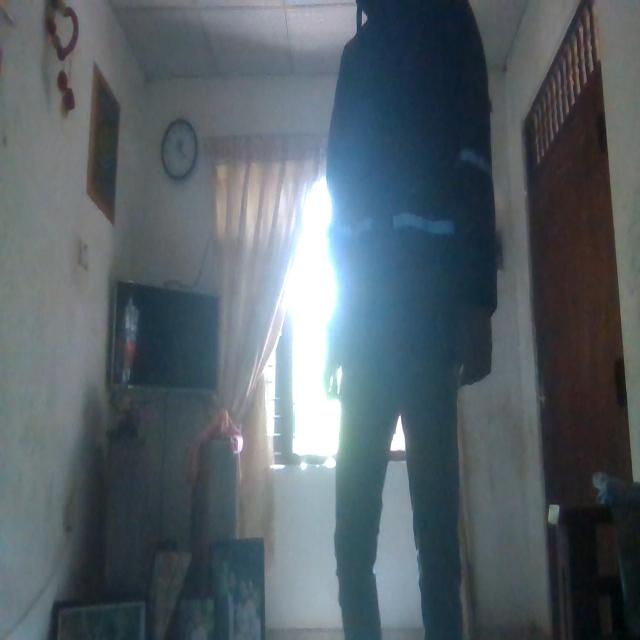Helmet_Wearer: (331, 4, 497, 388)
Person: (322, 0, 496, 640)
